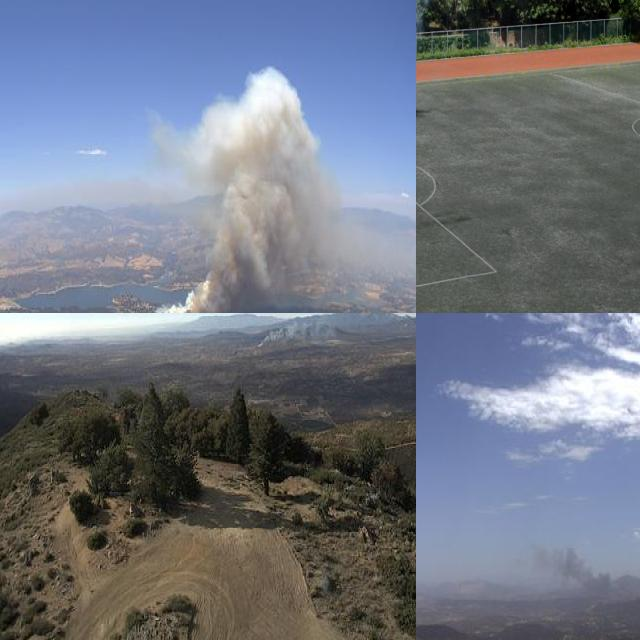smoke: (148, 64, 347, 313), (522, 538, 634, 634), (246, 313, 339, 353)
